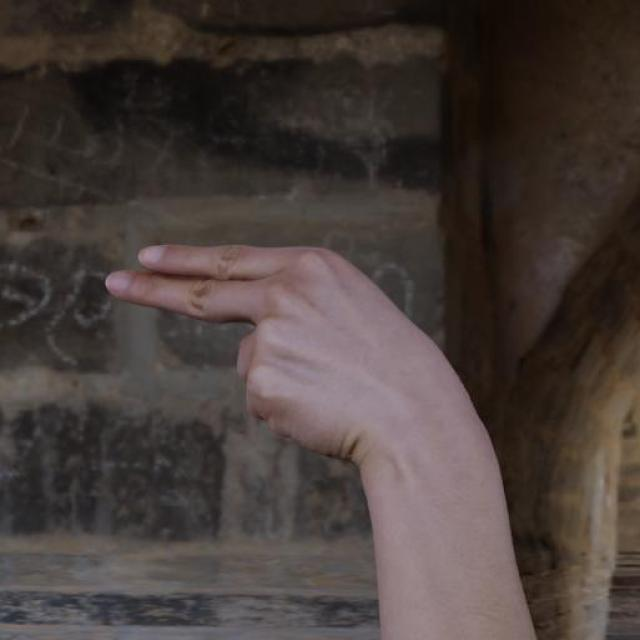H: (100, 237, 483, 483)
